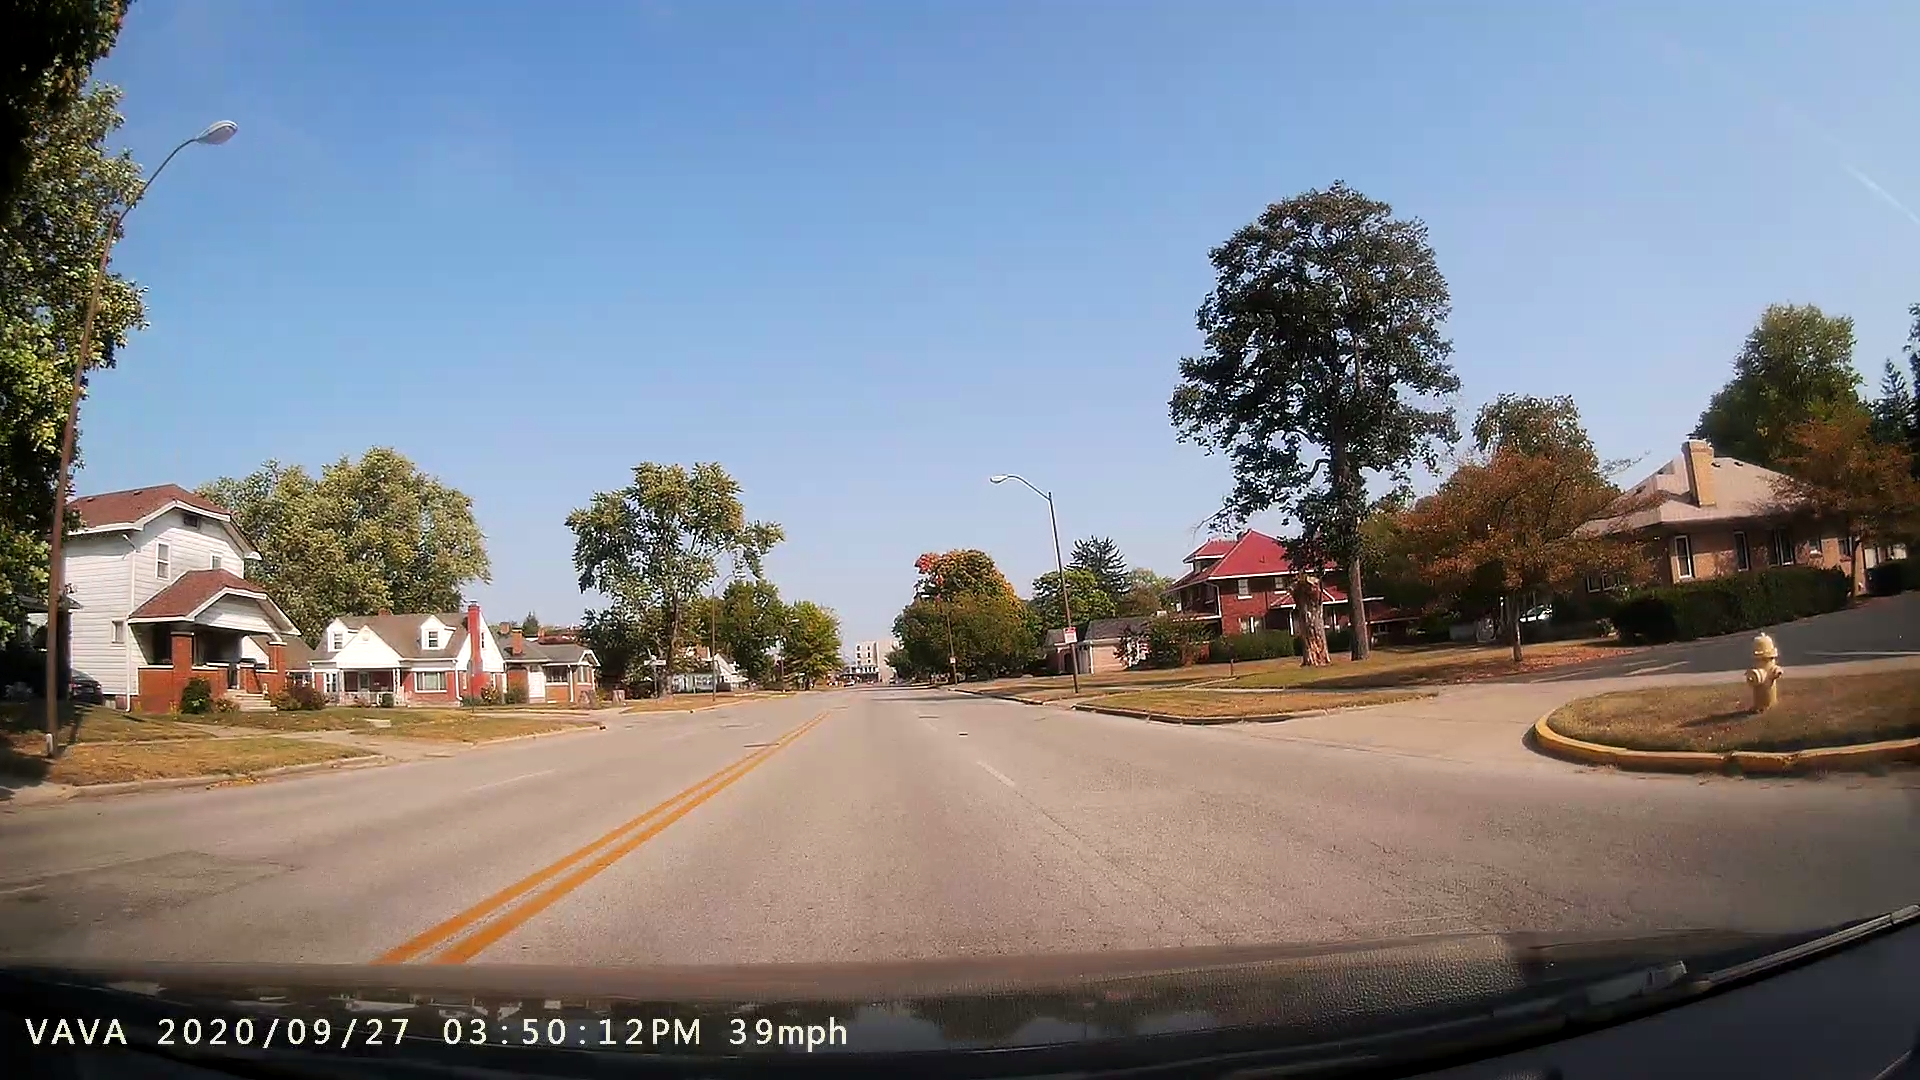fire_hydrant: (1731, 612, 1803, 731)
